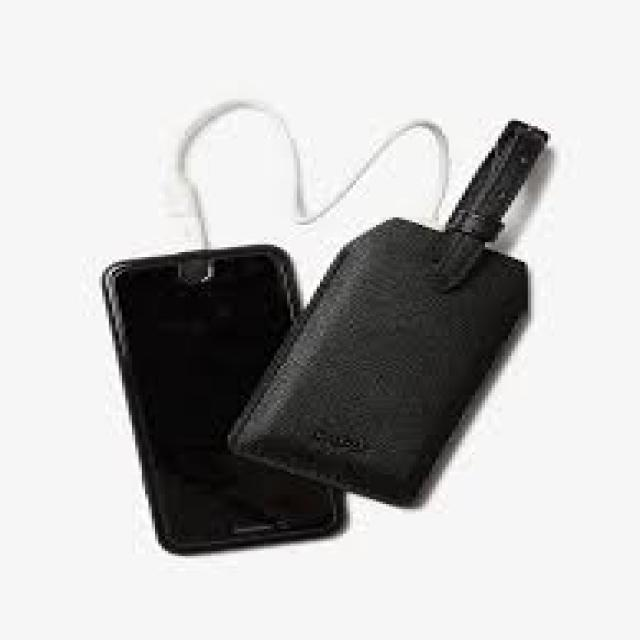portable-charger: (102, 245, 366, 557)
